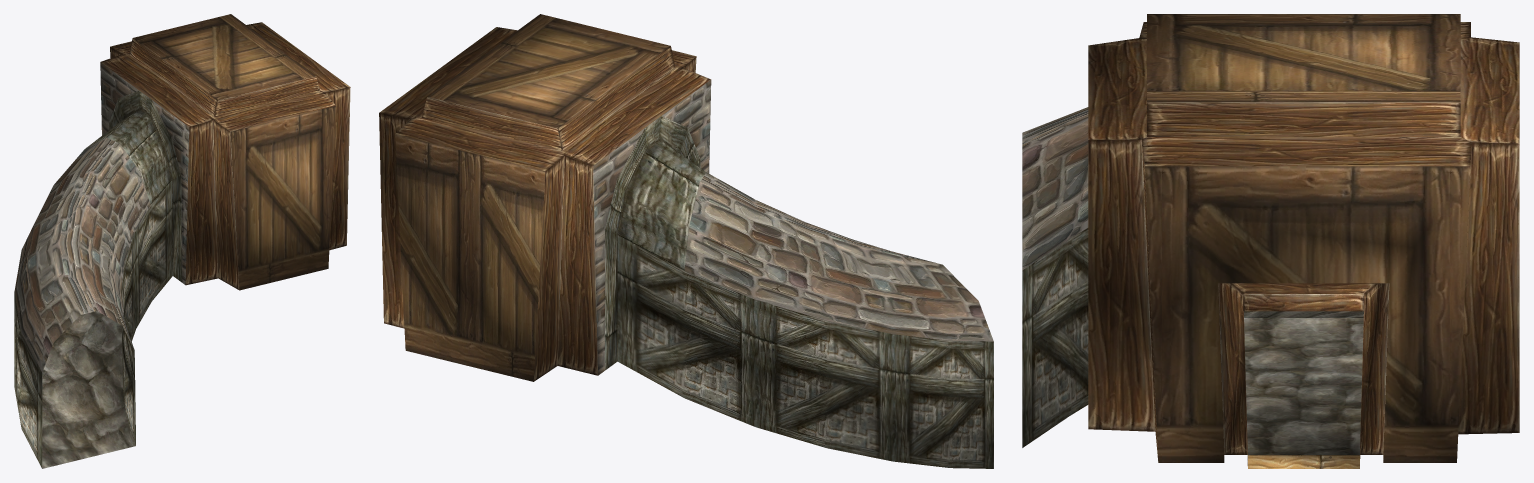
File: stormwind_085.fbx
The picture shows the model from 3 angles, left to right: view 1: azimuth 30°, elevation 25°; view 2: azimuth 150°, elevation 25°; view 3: azimuth 270°, elevation 25°; orthographic projection. The views are drawn at different scales.
Parts seen in each view (by area): view 1: stormwind_085_56, stormwind_085_38, stormwind_085_53, stormwind_085_58, stormwind_085_57; view 2: stormwind_085_58, stormwind_085_56, stormwind_085_53, stormwind_085_38; view 3: stormwind_085_56, stormwind_085_53, stormwind_085_57, stormwind_085_58, stormwind_085_38.
Part boxes in pixels (x1=…): stormwind_085_56: x1=133, y1=14, x2=336, y2=290; stormwind_085_38: x1=14, y1=62, x2=189, y2=372; stormwind_085_53: x1=101, y1=22, x2=350, y2=289; stormwind_085_58: x1=14, y1=90, x2=182, y2=468; stormwind_085_57: x1=42, y1=311, x2=135, y2=468; stormwind_085_58: x1=605, y1=116, x2=993, y2=468; stormwind_085_56: x1=395, y1=14, x2=670, y2=381; stormwind_085_53: x1=379, y1=27, x2=710, y2=381; stormwind_085_38: x1=593, y1=80, x2=993, y2=375; stormwind_085_56: x1=1145, y1=14, x2=1470, y2=462; stormwind_085_53: x1=1088, y1=22, x2=1519, y2=468; stormwind_085_57: x1=1244, y1=311, x2=1363, y2=454; stormwind_085_58: x1=1022, y1=228, x2=1255, y2=447; stormwind_085_38: x1=1022, y1=107, x2=1088, y2=270.
Bounding box in the file's own units: 14.93 × 11.99 × 10.04.
